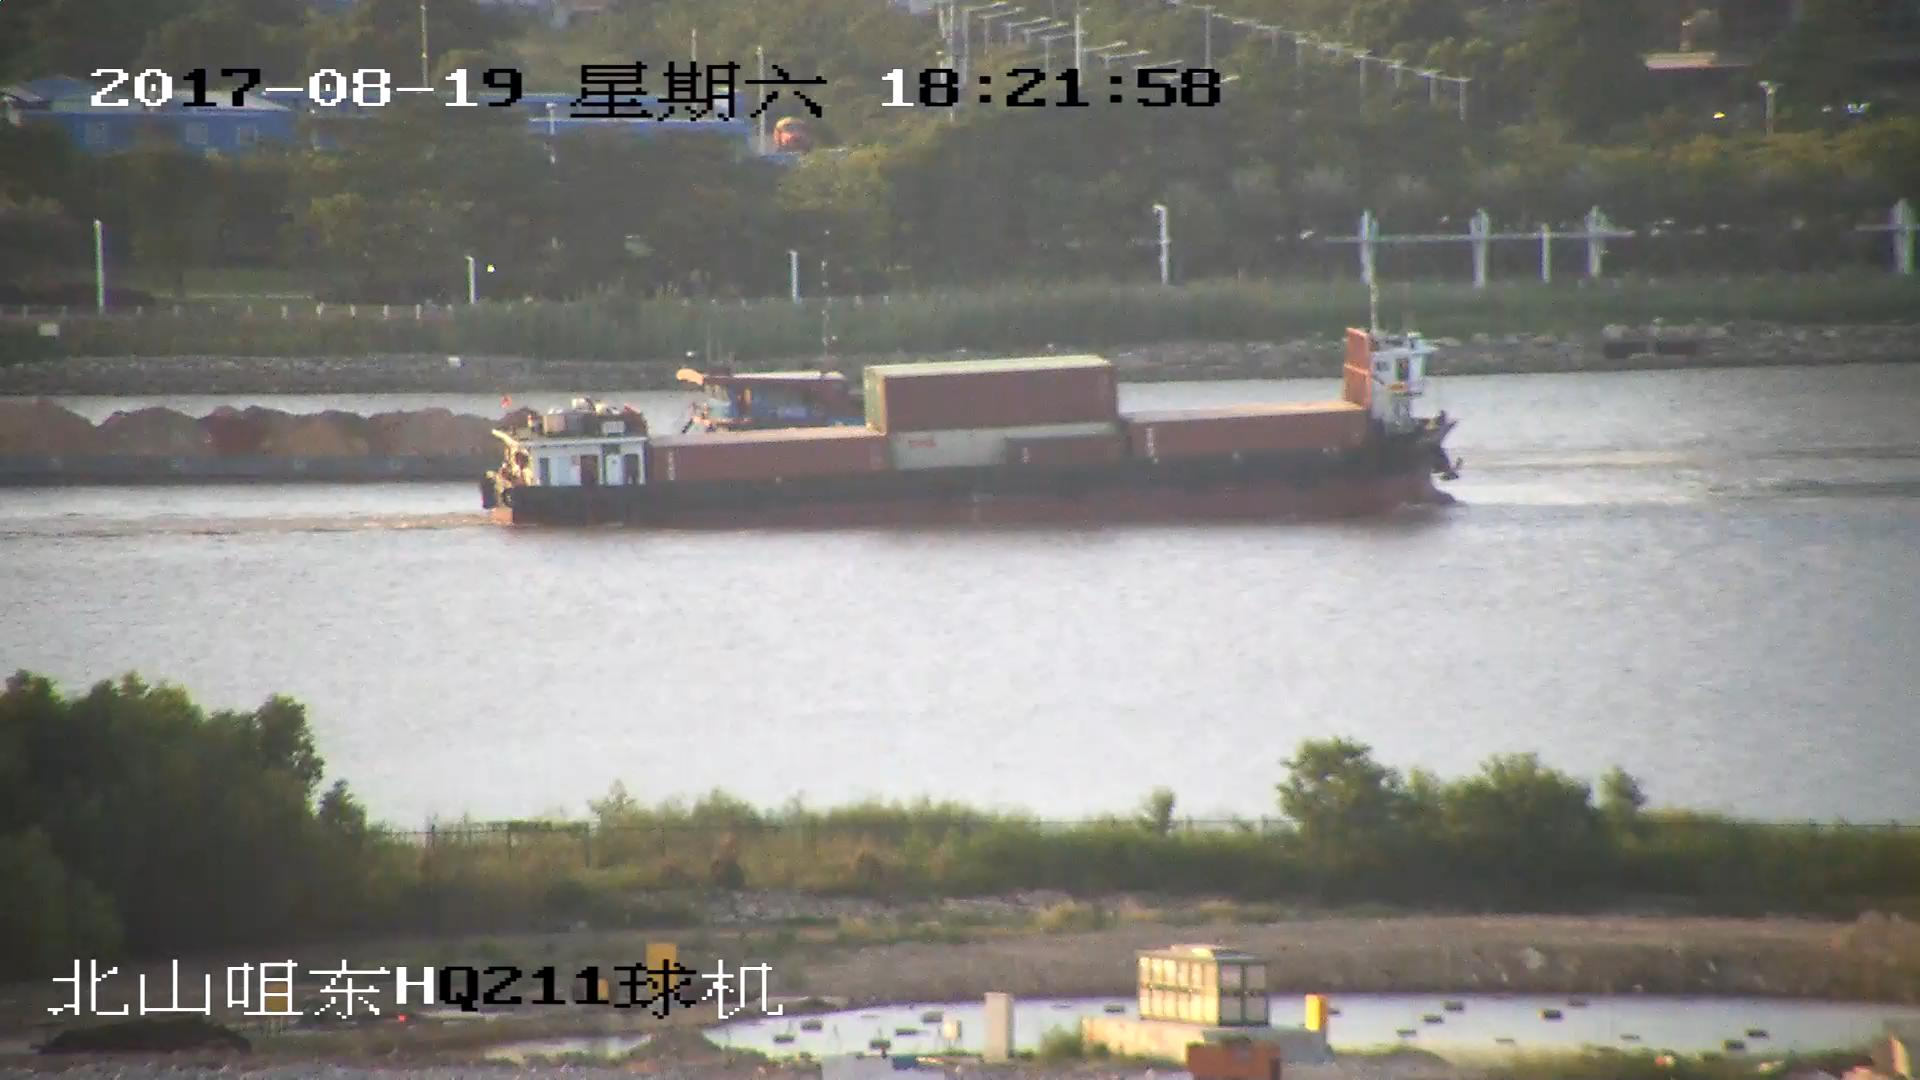container ship: (480, 313, 1453, 530)
ore carrier: (1, 395, 476, 494)
